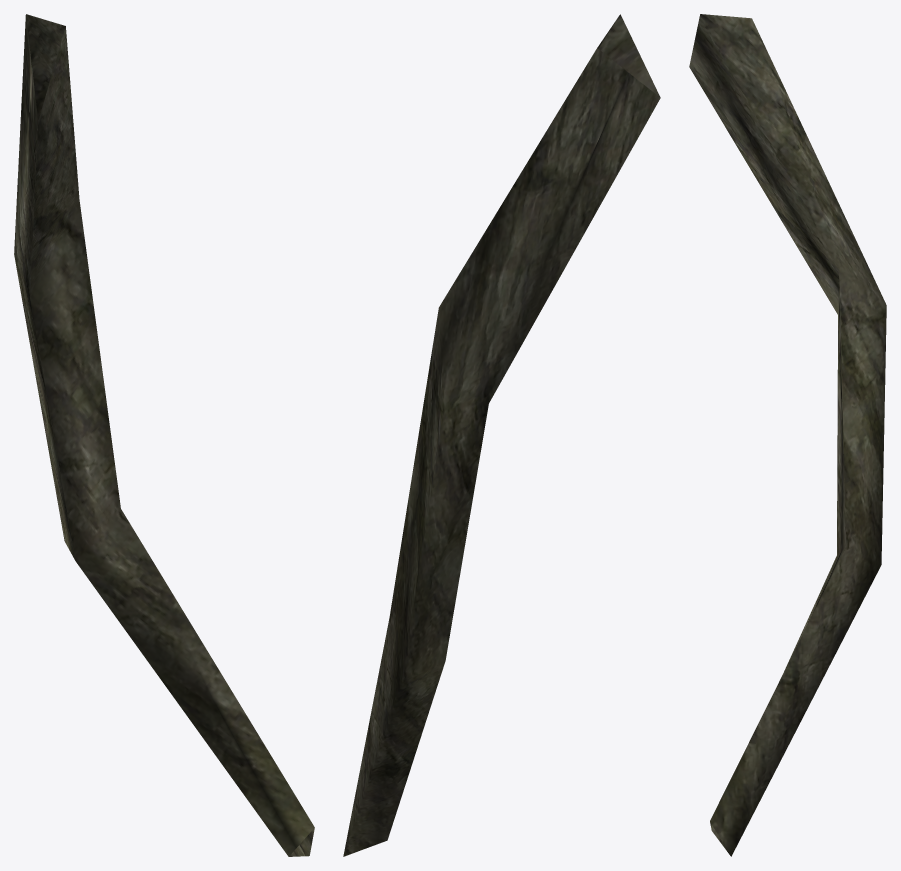
3 views of the same model, side by side, from view 1: azimuth 30°, elevation 25°; view 2: azimuth 150°, elevation 25°; view 3: azimuth 270°, elevation 25° (orthographic). The views are drawn at different scales.
Visible parts, largest first — view 1: TI_Root_02; view 2: TI_Root_02; view 3: TI_Root_02.
Part boxes in pixels (x1=…): TI_Root_02: x1=14, y1=14, x2=314, y2=856; TI_Root_02: x1=343, y1=14, x2=660, y2=856; TI_Root_02: x1=689, y1=14, x2=886, y2=856.
Bounding box in the file's own units: 0.8655 × 2.53 × 0.6123.
